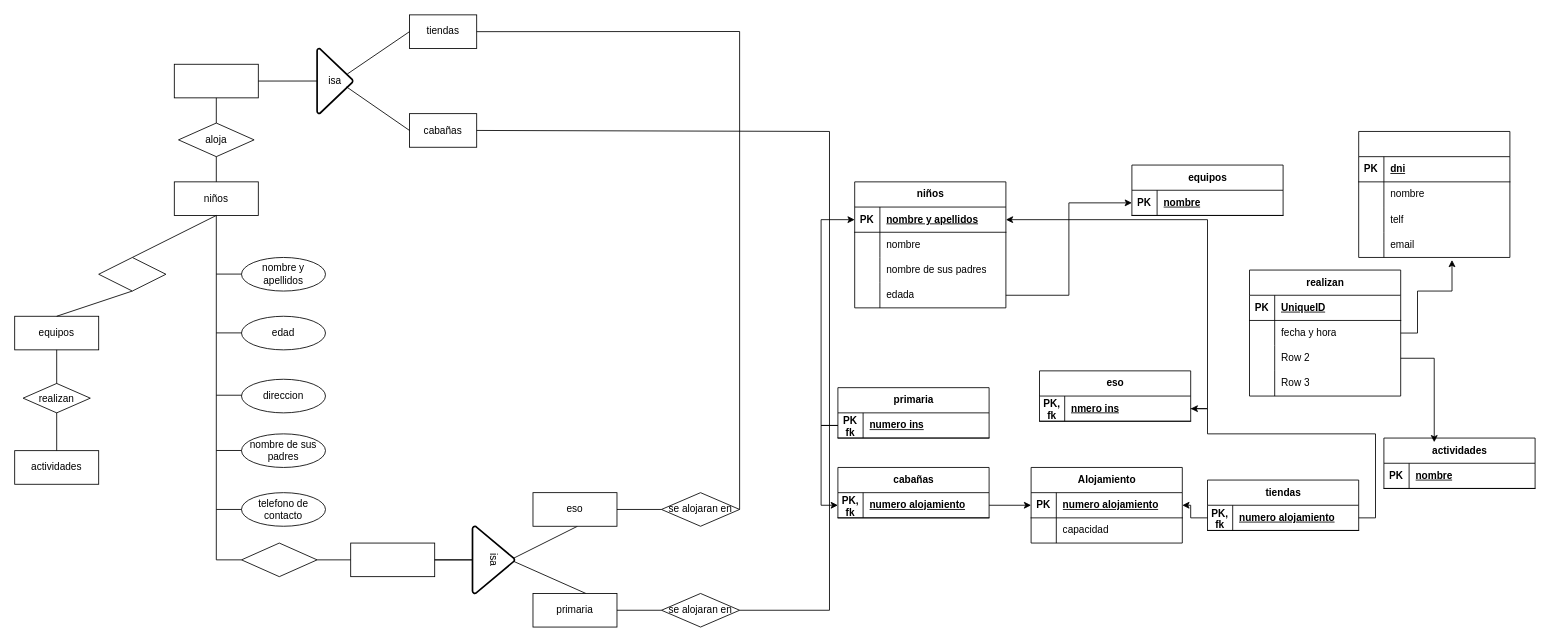
Image size: 1550x642. Some labels were removed from this diagram. The shapes that lost their labels are listed below. From the top down, each one's box as (x1, y1, x2, y2) in pixels, then its label:
(173, 63, 258, 98): campamentos de verano
(1358, 131, 1510, 257): monitores
(98, 257, 166, 291): estan en
(241, 542, 317, 577): tienen
(350, 542, 435, 577): enseñanza
